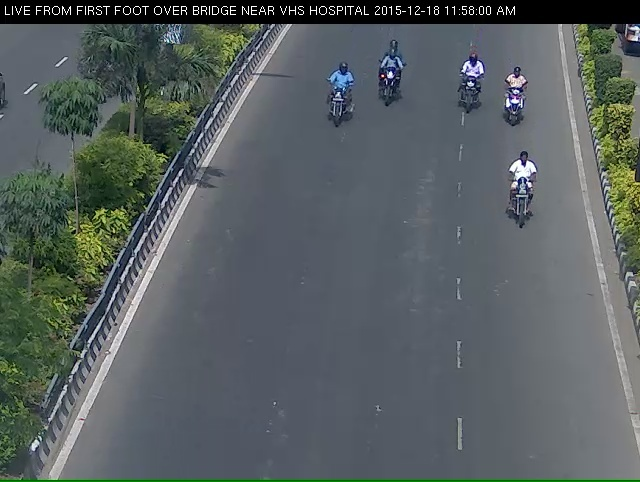Person: (313, 70, 363, 147), (363, 41, 407, 123), (496, 66, 538, 146), (502, 165, 541, 250), (451, 44, 485, 136)
